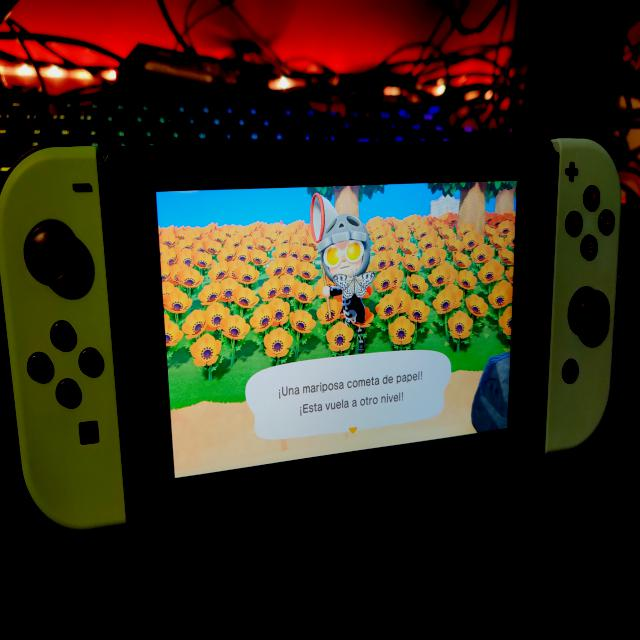text_bubble: (245, 349, 456, 443)
